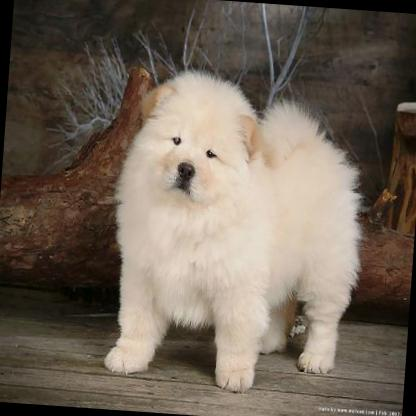chow: (102, 58, 378, 395)
